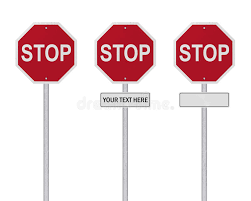SS: (14, 21, 76, 84), (94, 21, 156, 83), (174, 23, 235, 83)
